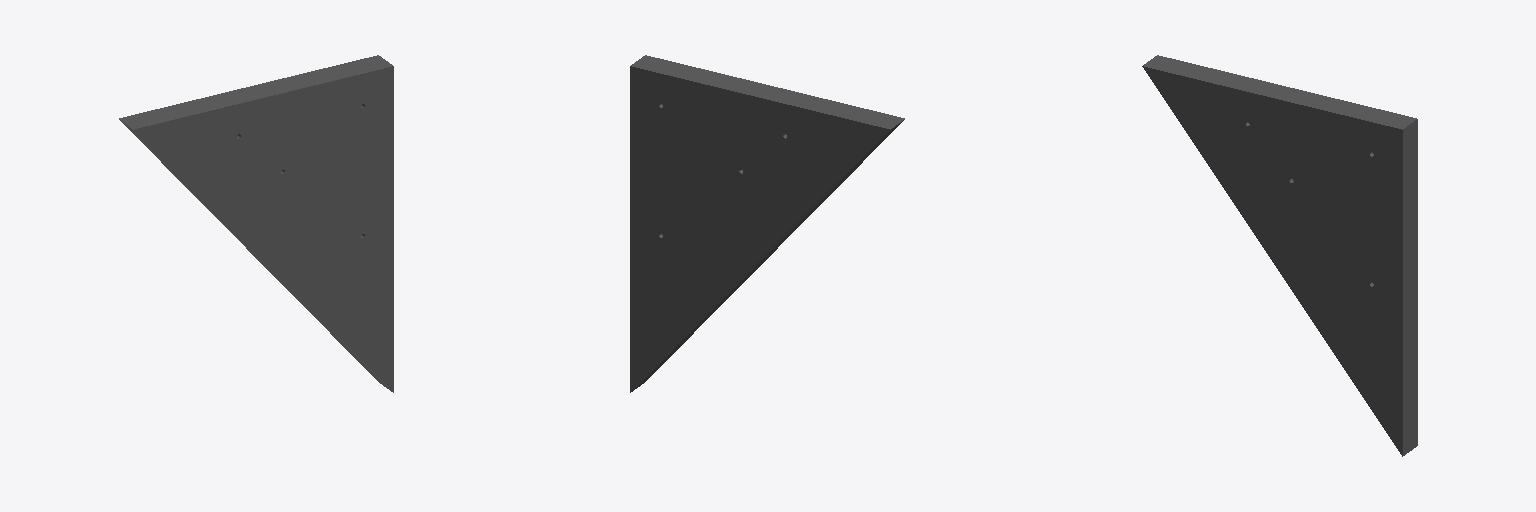
File: tri2.obj
3 renders of one model, left to right at view 1: azimuth 30°, elevation 25°; view 2: azimuth 150°, elevation 25°; view 3: azimuth 330°, elevation 25°, orthographic.
Parts seen in each view (by area): view 1: StainlessSteel_tri2; view 2: StainlessSteel_tri2; view 3: StainlessSteel_tri2.
Part boxes in pixels (x1,y1,x2,y2): StainlessSteel_tri2: (119, 55, 393, 392); StainlessSteel_tri2: (630, 55, 904, 392); StainlessSteel_tri2: (1142, 55, 1417, 456).
Bounding box in the file's own units: 0.126 × 0.1512 × 0.0127.